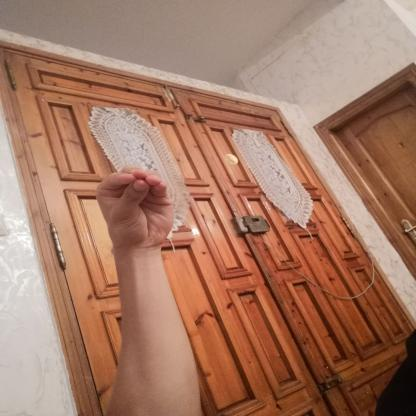HA: (81, 159, 189, 260)
